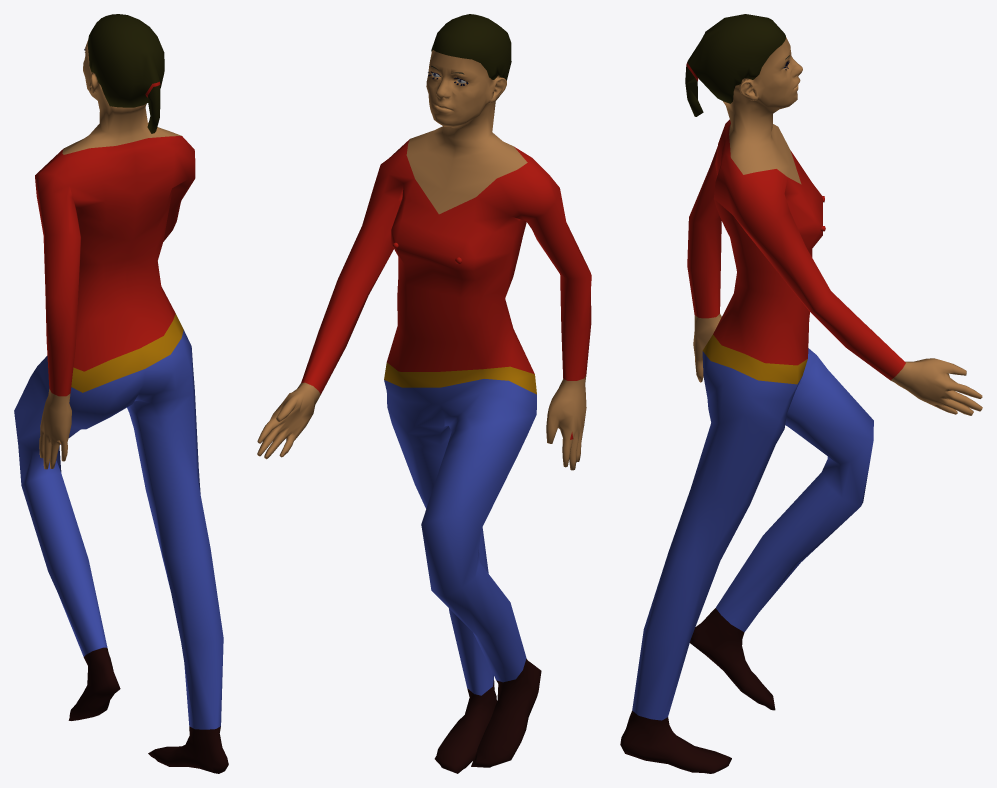
File: person_000008.obj
The picture shows the model from 3 angles, left to right: view 1: azimuth 30°, elevation 25°; view 2: azimuth 150°, elevation 25°; view 3: azimuth 270°, elevation 25°; orthographic projection. The views are drawn at different scales.
Parts seen in each view (by area): view 1: Cube; view 2: Cube; view 3: Cube.
Boxes of the visible parts, bbox=[...] form: Cube: bbox=[14, 14, 228, 773]; Cube: bbox=[257, 14, 591, 773]; Cube: bbox=[620, 14, 982, 773].
Size of the model in its own units: 24.87 by 93.61 by 41.86.
